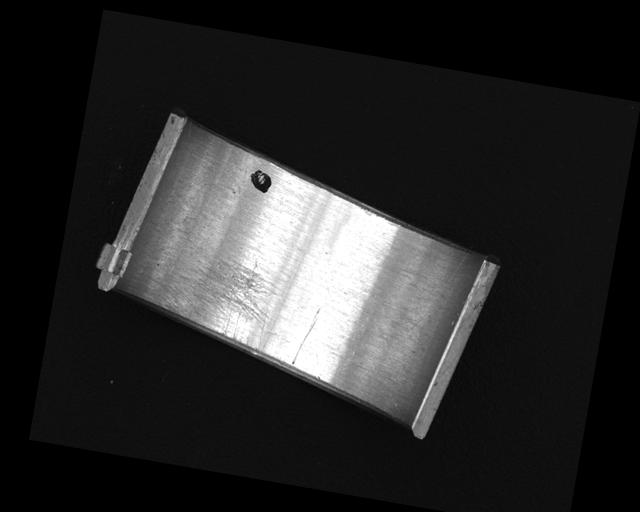blot: (247, 168, 274, 194)
nick: (408, 243, 468, 340), (291, 302, 322, 368)
scratch: (156, 247, 279, 353)
